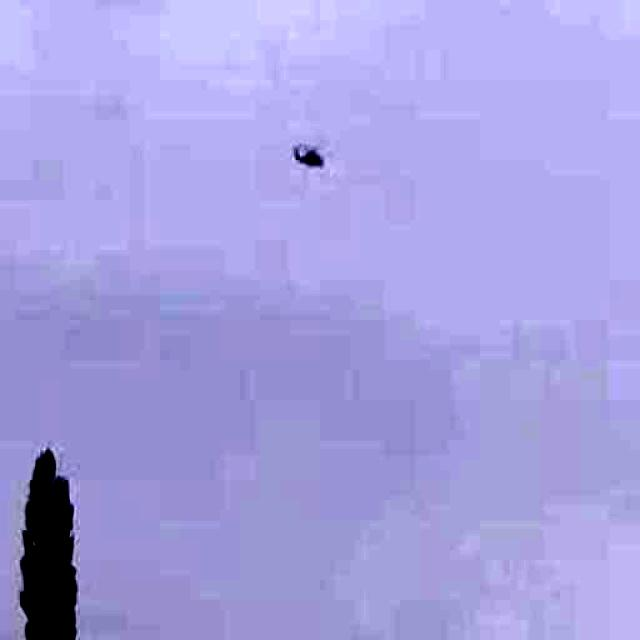drone: (279, 128, 341, 179)
